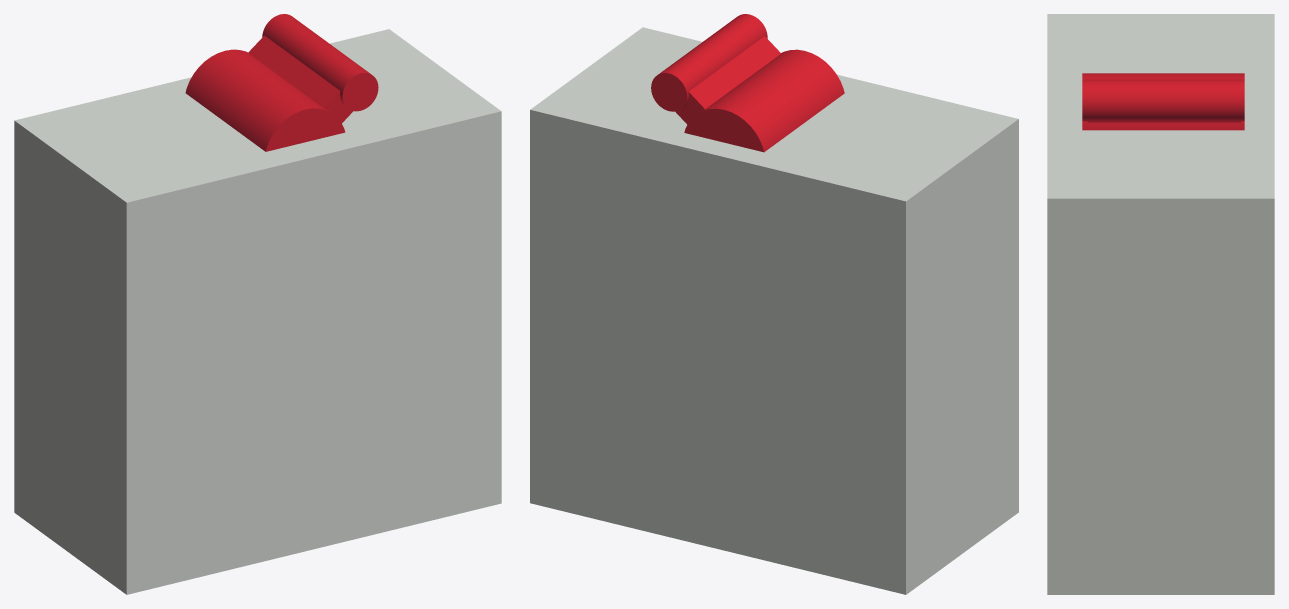
File: CircuitBreaker.fbx
3 views of the same model, side by side, from view 1: azimuth 30°, elevation 25°; view 2: azimuth 150°, elevation 25°; view 3: azimuth 270°, elevation 25° (orthographic).
Visible parts, largest first — view 1: Body, Switch, Cylinder_1, Cube_1; view 2: Body, Switch, Cylinder_1, Cube_1; view 3: Body, Cylinder_1, Switch.
Boxes of the visible parts, x1=… form: Body: x1=14, y1=29, x2=501, y2=594; Switch: x1=185, y1=49, x2=345, y2=151; Cylinder_1: x1=262, y1=14, x2=378, y2=111; Cube_1: x1=248, y1=35, x2=353, y2=123; Body: x1=530, y1=27, x2=1018, y2=594; Switch: x1=684, y1=49, x2=844, y2=152; Cylinder_1: x1=651, y1=14, x2=767, y2=111; Cube_1: x1=675, y1=36, x2=780, y2=124; Body: x1=1047, y1=14, x2=1274, y2=594; Cylinder_1: x1=1082, y1=79, x2=1244, y2=121; Switch: x1=1082, y1=73, x2=1244, y2=130.
Bounding box in the file's own units: 202 × 231 × 105.
